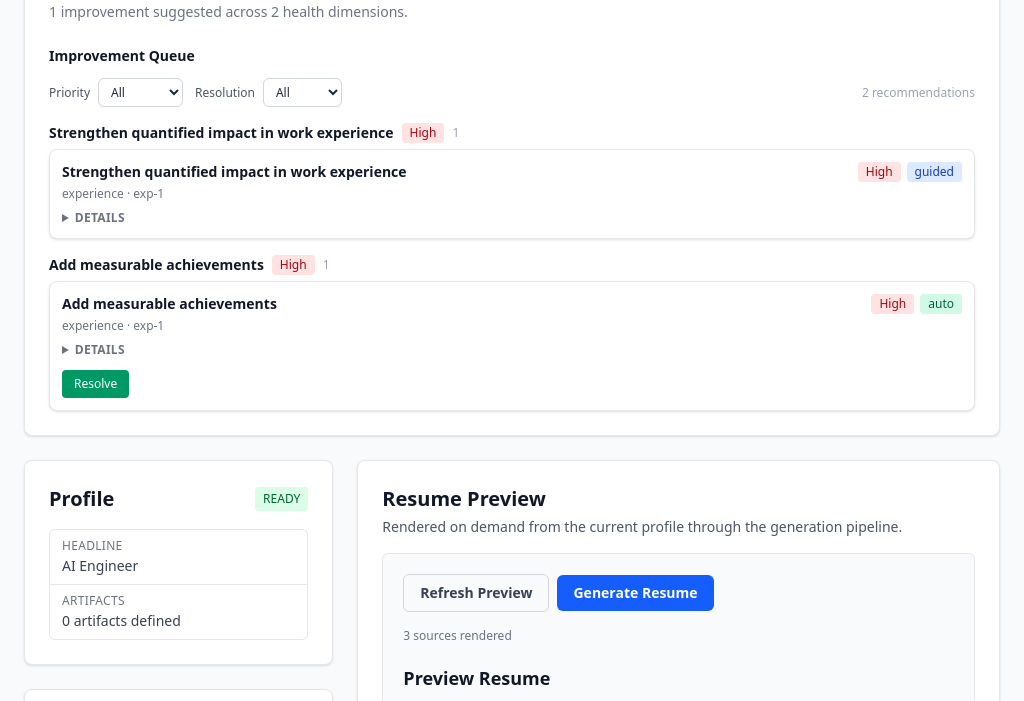
ArtifactWorkspacePage › resolvable recommendation shows a Resolve button that opens the panel
The width and height of the screenshot is (1024, 701).
(page scrolled)
Click the button with test id "resolve-button": (96, 384) x1=62 y1=370 x2=129 y2=398
(page scrolled)
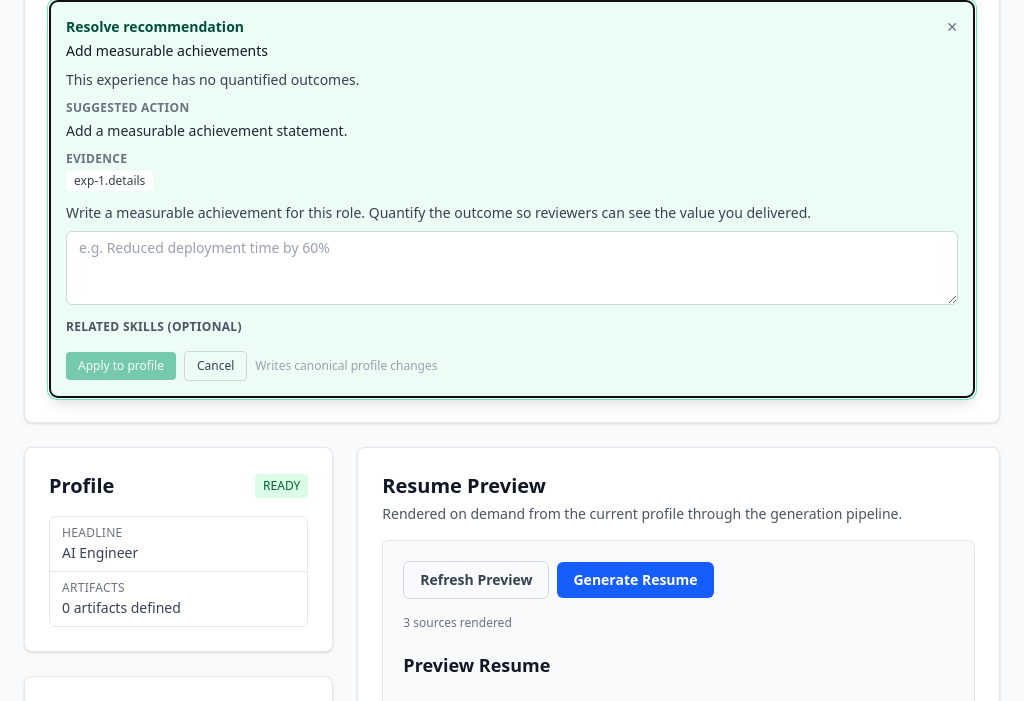
Check: the element with test id "resolution-panel" is shown, box x1=49 y1=0 x2=975 y2=398
Check: the text "Resolve recommendation" is shown, box x1=66 y1=17 x2=244 y2=37
